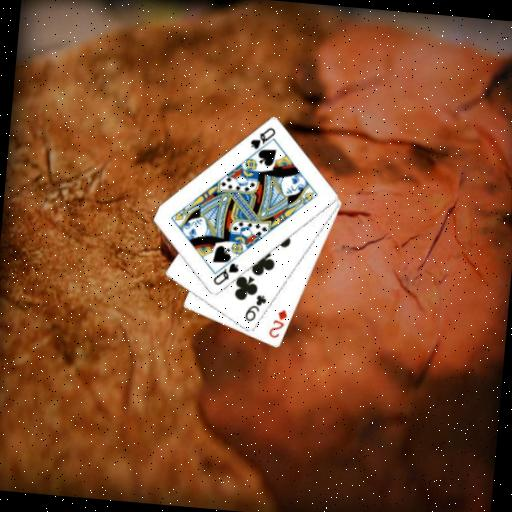2D: (265, 306, 289, 341)
9C: (241, 291, 269, 325)
QS: (210, 258, 241, 289), (247, 123, 278, 153)
